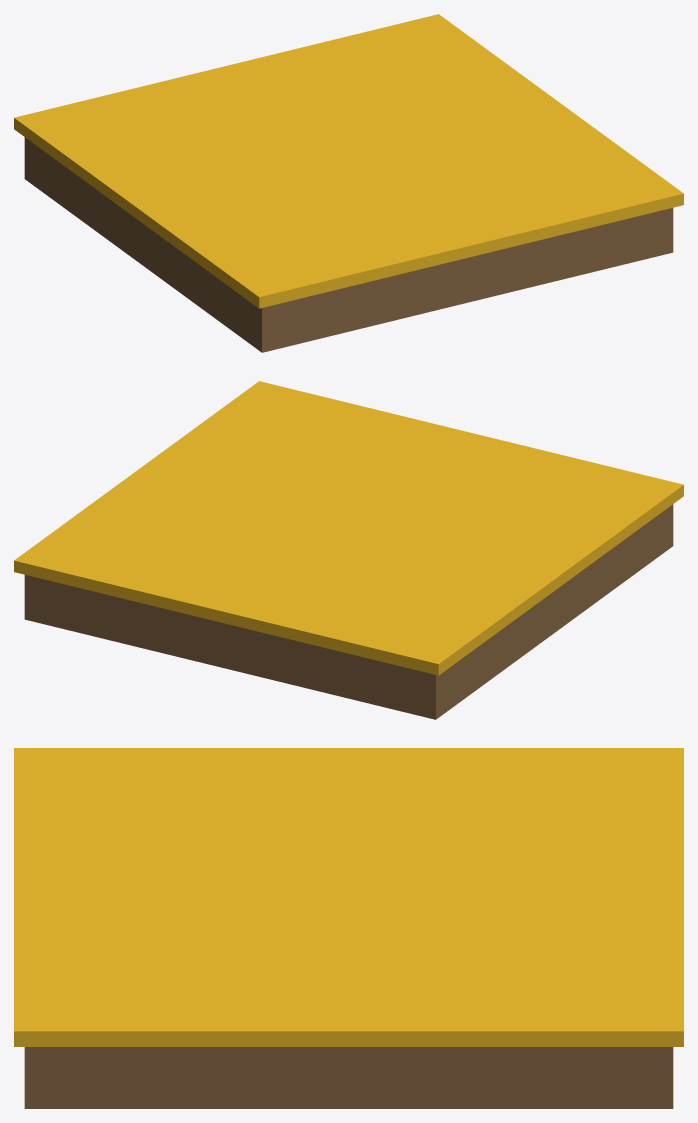
Rendered from platform.glb.
3 views of the same model, one above another, from view 1: azimuth 30°, elevation 25°; view 2: azimuth 150°, elevation 25°; view 3: azimuth 270°, elevation 25° (orthographic). The views are drawn at different scales.
Parts seen in each view (by area): view 1: Edge, Boards; view 2: Edge, Boards; view 3: Edge, Boards.
Boxes of the visible parts, bbox=[...] form: Edge: bbox=[14, 14, 683, 308]; Boards: bbox=[24, 137, 673, 352]; Edge: bbox=[14, 381, 683, 675]; Boards: bbox=[24, 504, 673, 719]; Edge: bbox=[14, 748, 683, 1046]; Boards: bbox=[24, 1047, 673, 1108].
Size of what is drawn, in the model's own units: 3.1 by 0.42 by 3.1.
